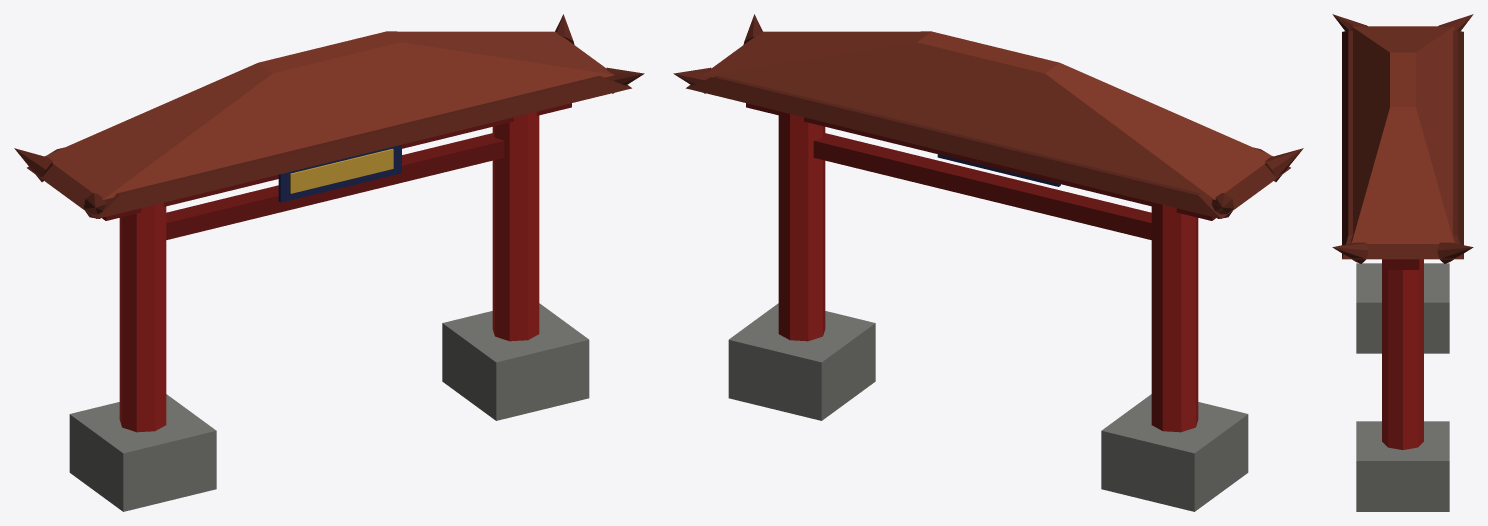
The model's file is SM_GZ_gate_ember.fbx.
3 renders of one model, left to right at view 1: azimuth 30°, elevation 25°; view 2: azimuth 150°, elevation 25°; view 3: azimuth 270°, elevation 25°, orthographic. The views are drawn at different scales.
Parts seen in each view (by area): view 1: SM_GZ_gate_ember; view 2: SM_GZ_gate_ember; view 3: SM_GZ_gate_ember.
Boxes of the visible parts, x1,y1,x2,y2 form: SM_GZ_gate_ember: [14, 14, 644, 511]; SM_GZ_gate_ember: [673, 14, 1303, 511]; SM_GZ_gate_ember: [1332, 14, 1473, 511].
Size of the model in its own units: 1179 by 785 by 303.
